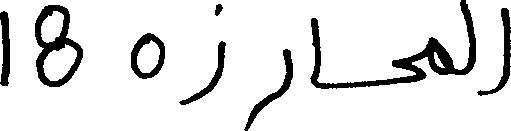1: (0, 8, 9, 86)
8: (32, 2, 82, 87)
ا: (488, 5, 509, 93), (309, 16, 322, 89)
ح: (389, 42, 425, 84)
ر: (242, 47, 292, 130)
ز: (179, 2, 225, 105)
ل: (458, 0, 475, 93)
م: (426, 34, 454, 76)
ه: (129, 30, 165, 79)
